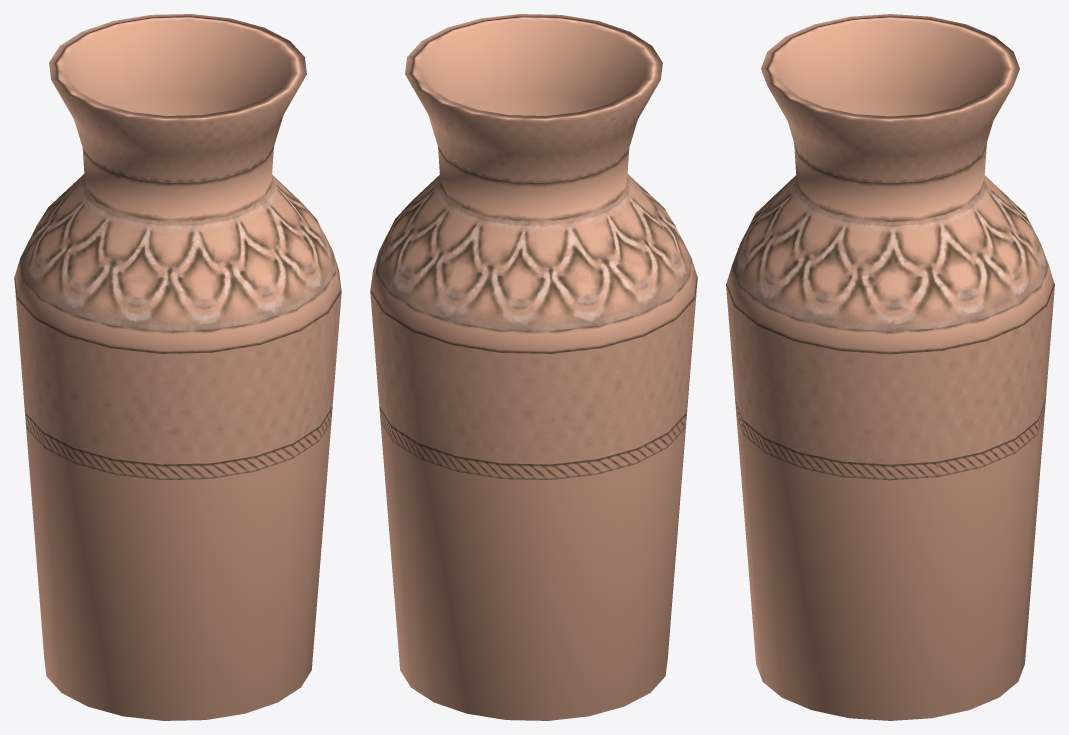
Rendered from Pot_2.fbx.
The picture shows the model from 3 angles, left to right: view 1: azimuth 30°, elevation 25°; view 2: azimuth 150°, elevation 25°; view 3: azimuth 270°, elevation 25°; orthographic projection.
Visible parts, largest first — view 1: pot_2; view 2: pot_2; view 3: pot_2.
Boxes of the visible parts, x1=… form: pot_2: x1=14, y1=14, x2=341, y2=720; pot_2: x1=370, y1=14, x2=697, y2=720; pot_2: x1=726, y1=14, x2=1054, y2=720.
Size of the model in its own units: 36.99 by 73.89 by 36.99.
